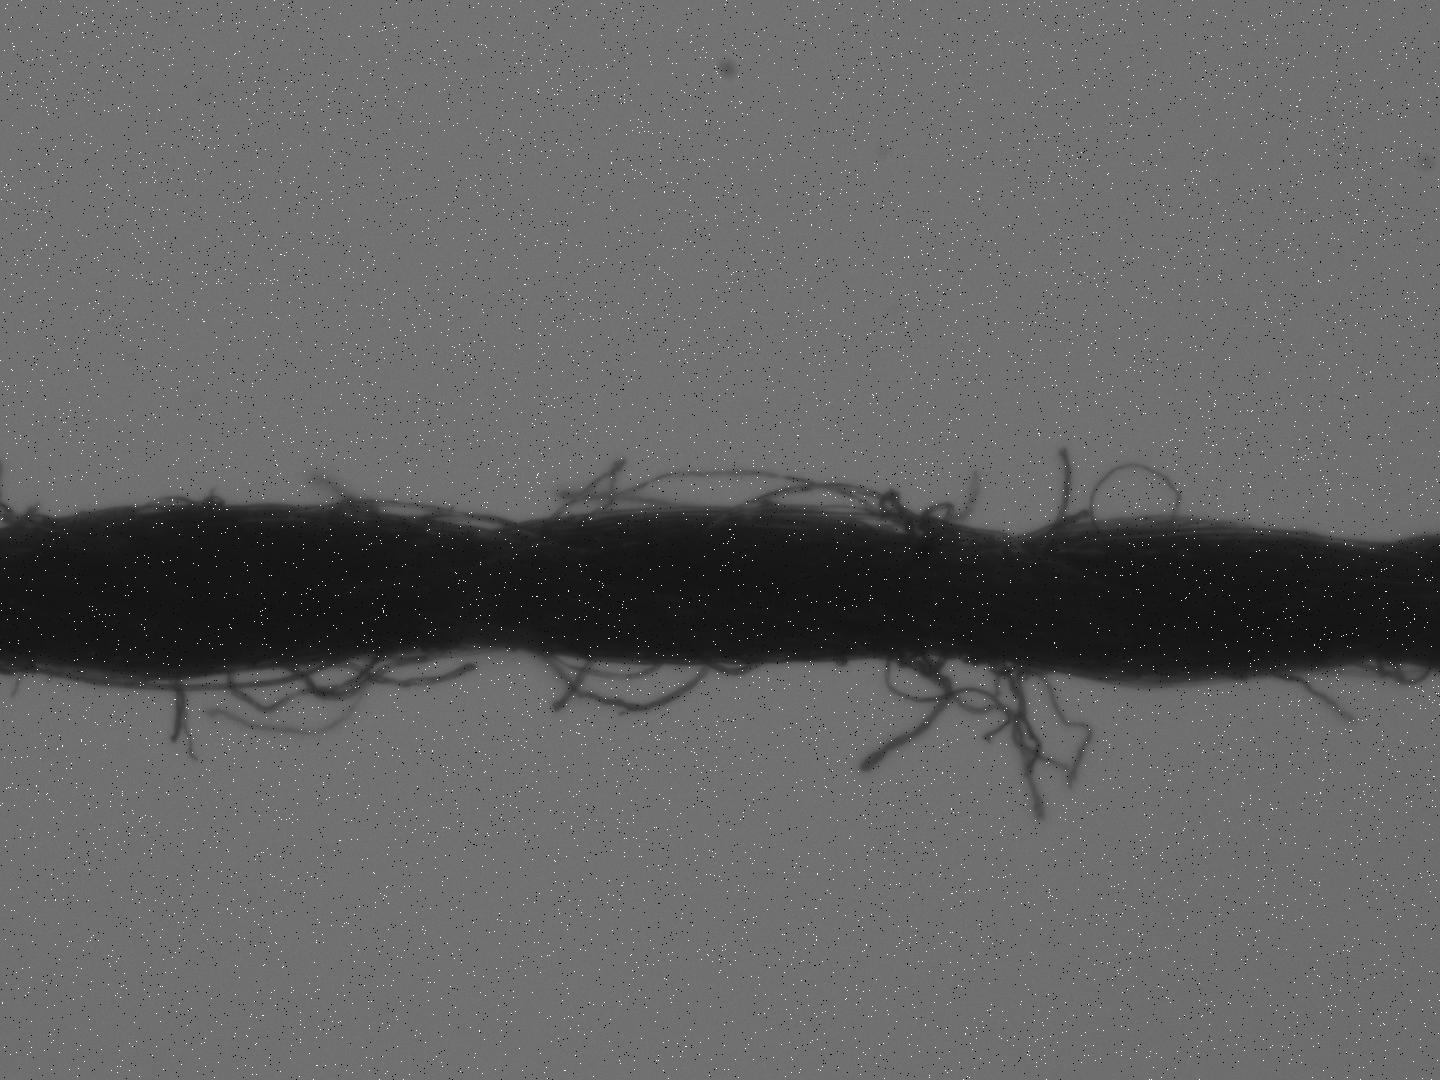loop_fiber: (708, 476, 1022, 546), (578, 461, 887, 528), (535, 648, 725, 716), (225, 649, 388, 719), (1086, 458, 1179, 538), (265, 644, 390, 703), (544, 644, 662, 681), (1355, 661, 1431, 691), (694, 657, 762, 681)
protruding_fiber: (1270, 673, 1357, 733), (1045, 434, 1076, 534)
